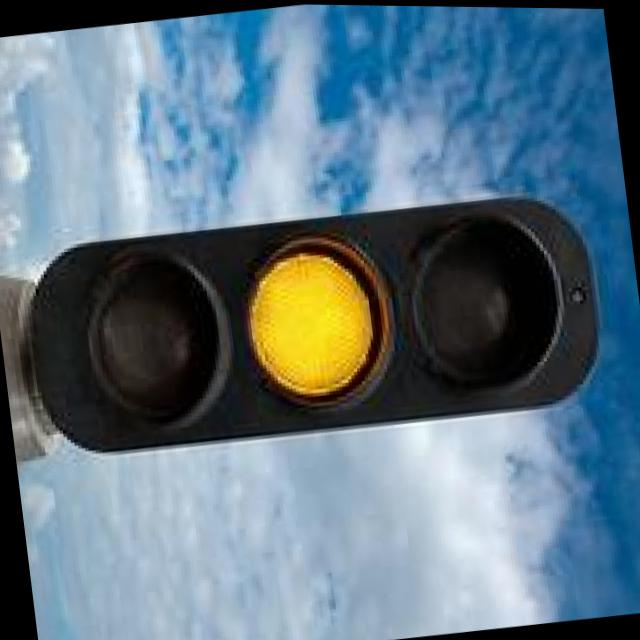yellow_light: (219, 194, 418, 486)
